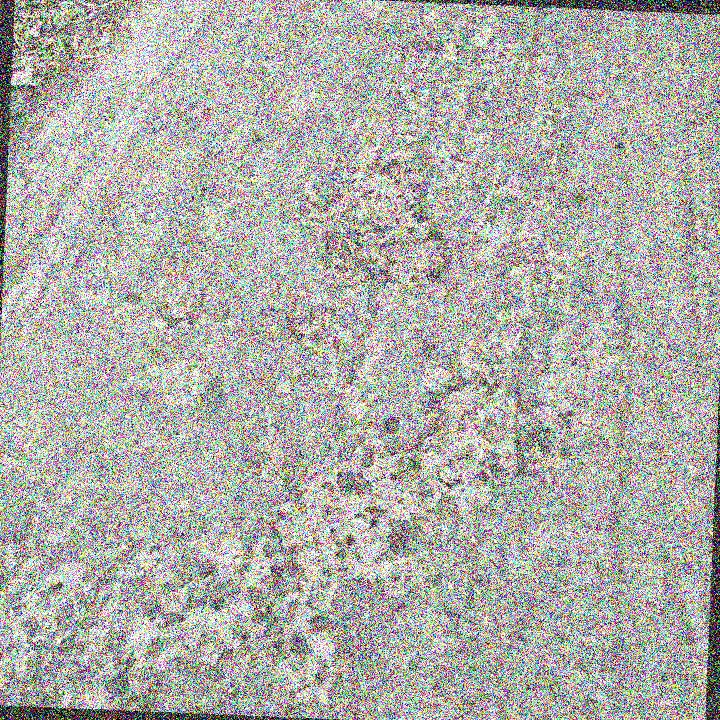pothole: (261, 432, 415, 585), (289, 154, 453, 297), (408, 369, 532, 517)
